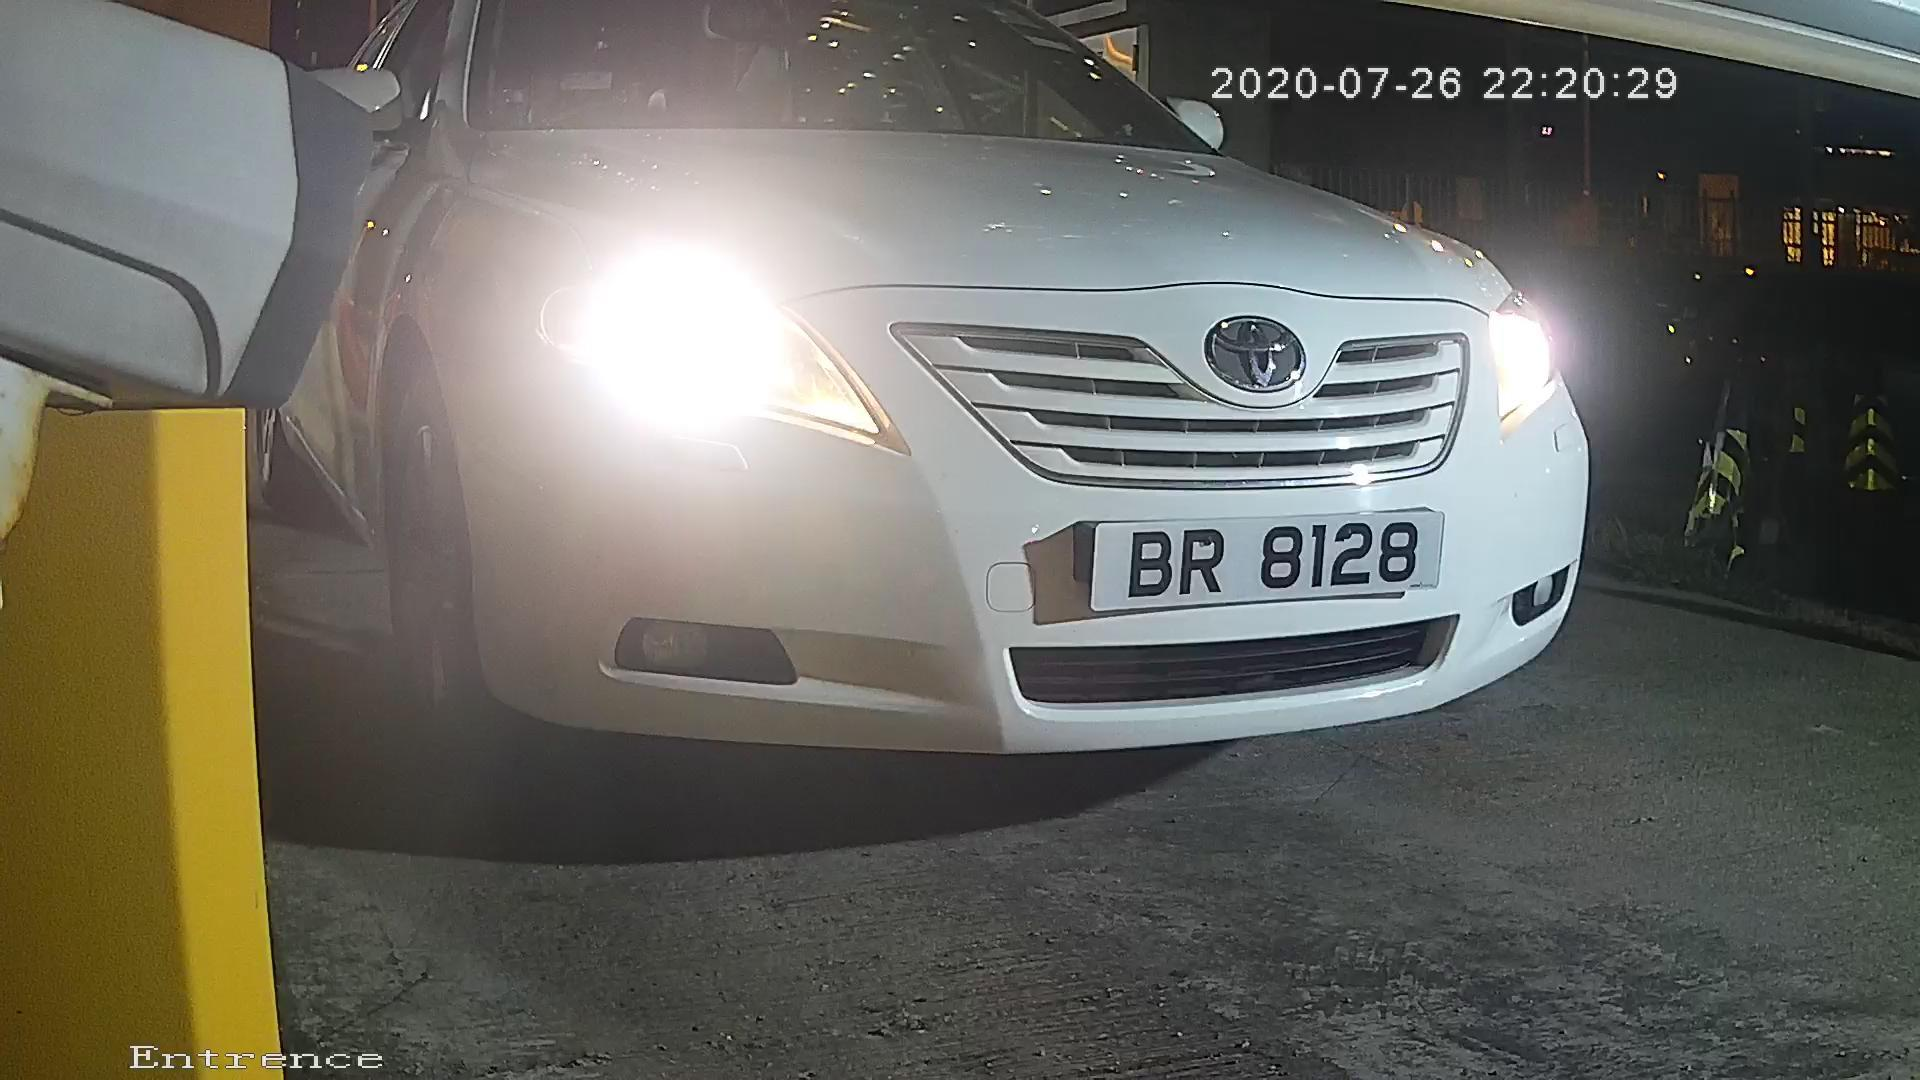Car: (121, 49, 1715, 830)
License Plate: (1063, 483, 1449, 642)
